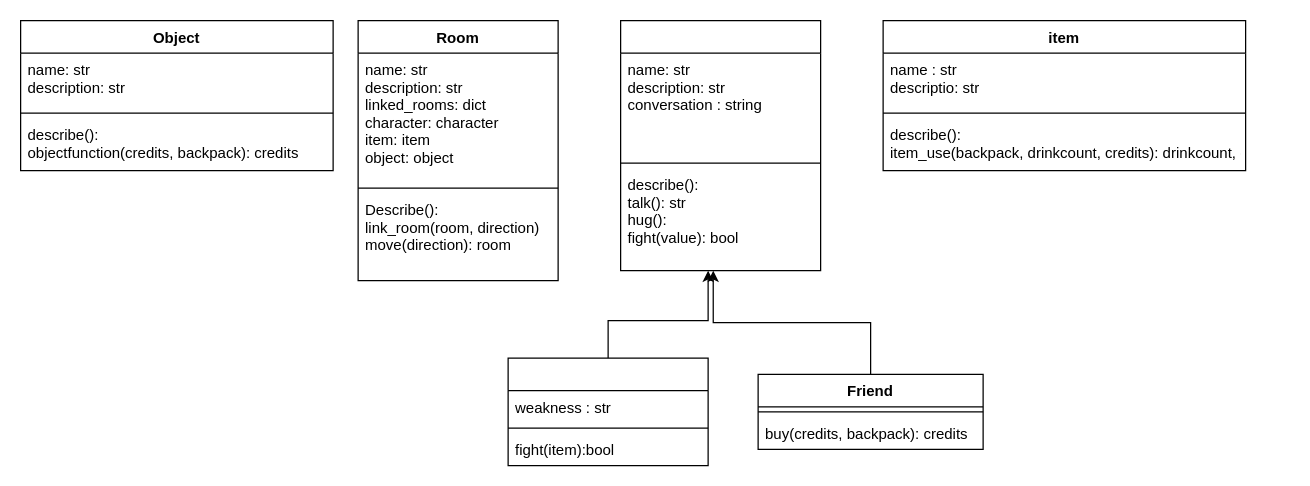
Image size: 1310x486. Some labels were removed from this diagram. Here are the shapes that lost their labels. From the top down, the box of each, then its label:
(619, 19, 821, 271): Character
(507, 357, 708, 466): Enemy
